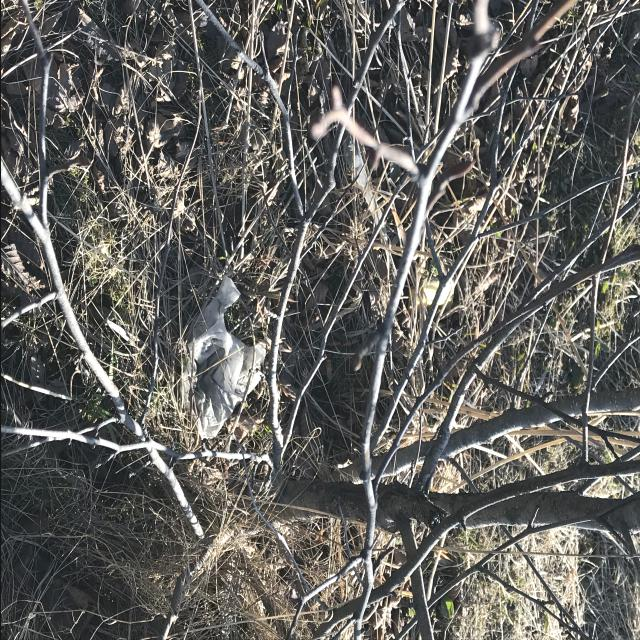Single-use carrier bag: (179, 275, 265, 440)
Unlabeled litter: (407, 278, 450, 312)
